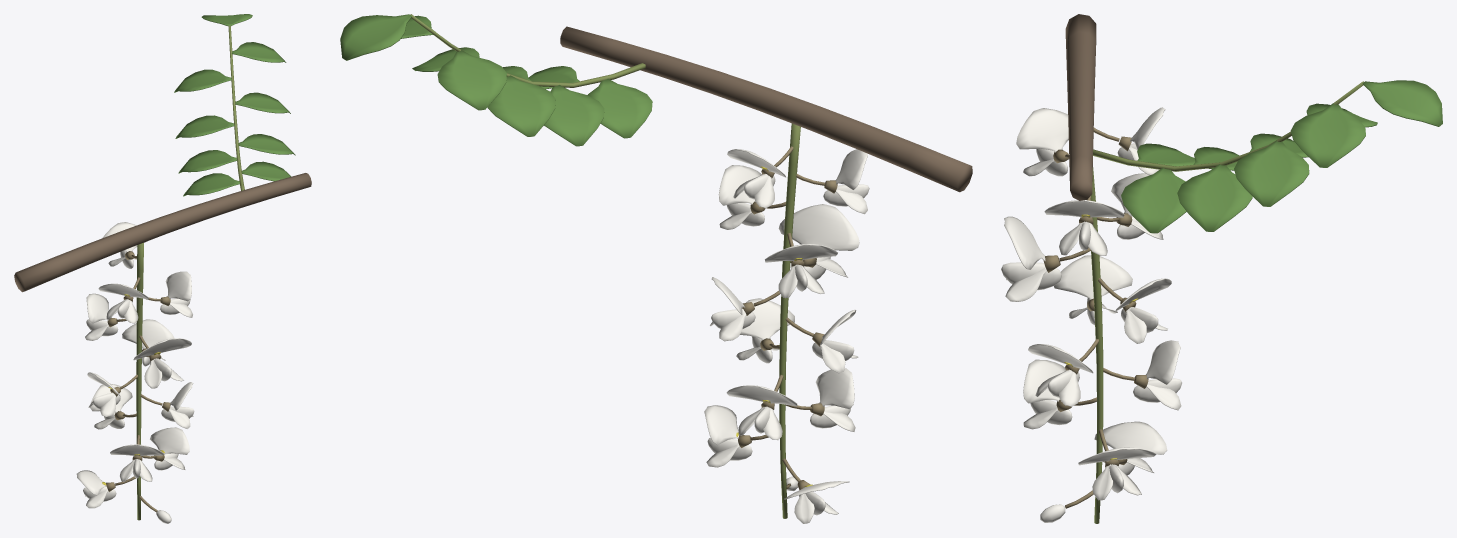
File: flower-robinia.glb
The picture shows the model from 3 angles, left to right: view 1: azimuth 30°, elevation 25°; view 2: azimuth 150°, elevation 25°; view 3: azimuth 270°, elevation 25°; orthographic projection. The views are drawn at different scales.
Parts seen in each view (by area): view 1: raceme_flowers, leaves, branch, raceme_axis, hero_petals, hero_wings; view 2: raceme_flowers, leaves, branch, raceme_axis, hero_petals; view 3: raceme_flowers, leaves, branch, raceme_axis, hero_petals, hero_keel_full, hero_wings.
Part boxes in pixels (x1,y1,x2,y2): raceme_flowers: [76, 222, 194, 523]; leaves: [174, 14, 295, 196]; branch: [14, 173, 311, 292]; raceme_axis: [136, 242, 143, 520]; hero_petals: [134, 338, 191, 359]; hero_wings: [144, 358, 183, 388]; raceme_flowers: [704, 146, 869, 523]; leaves: [340, 14, 652, 146]; branch: [560, 26, 972, 192]; raceme_axis: [779, 123, 800, 518]; hero_petals: [778, 204, 859, 250]; raceme_flowers: [1016, 107, 1181, 522]; leaves: [1093, 80, 1442, 233]; branch: [1065, 14, 1096, 200]; raceme_axis: [1090, 167, 1103, 523]; hero_petals: [1004, 216, 1045, 269]; hero_keel_full: [1001, 262, 1061, 290]; hero_wings: [1005, 267, 1046, 301].
Bounding box in the file's own units: 15.74 × 16.58 × 11.61.
